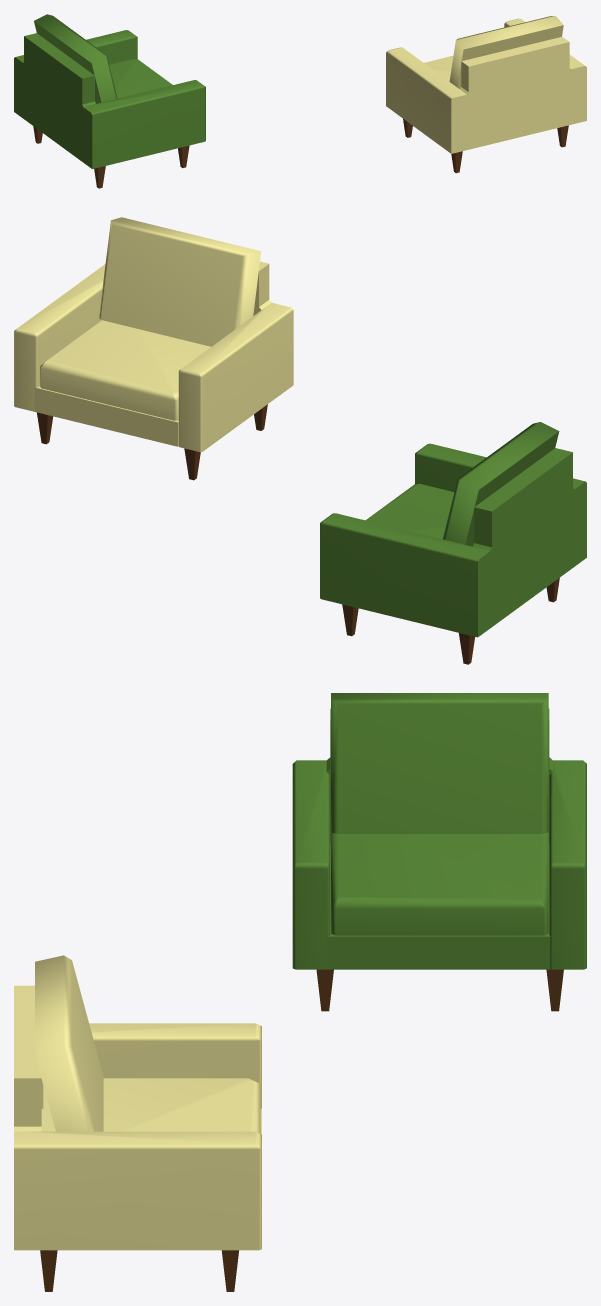
File: otherchairs.glb
3 views of the same model, one above another, from view 1: azimuth 30°, elevation 25°; view 2: azimuth 150°, elevation 25°; view 3: azimuth 270°, elevation 25° (orthographic). The views are drawn at different scales.
Visible parts, largest first — view 1: Armchair_lambert1_0.003, Armchair_lambert1_0.002; view 2: Armchair_lambert1_0.002, Armchair_lambert1_0.003; view 3: Armchair_lambert1_0.003, Armchair_lambert1_0.002.
Boxes of the visible parts, bbox=[...] form: Armchair_lambert1_0.003: bbox=[14, 14, 205, 188]; Armchair_lambert1_0.002: bbox=[386, 16, 586, 173]; Armchair_lambert1_0.002: bbox=[14, 217, 293, 480]; Armchair_lambert1_0.003: bbox=[320, 422, 586, 664]; Armchair_lambert1_0.003: bbox=[292, 693, 586, 1011]; Armchair_lambert1_0.002: bbox=[14, 955, 261, 1291].
Size of the model in its own units: 1.02 by 0.2967 by 0.6406.
2 materials, 2 textured.
